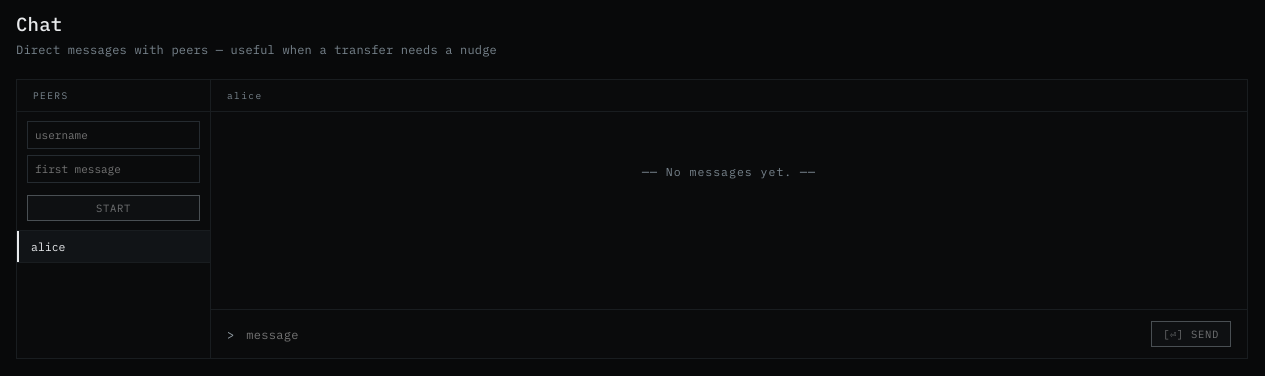
Test: Chat composer › shows a send-failed message on 502 but keeps the composer enabled and the draft intact
Step 1. Type "hello" into the field labelled "message" → (693, 334), box [244,326,1141,342]
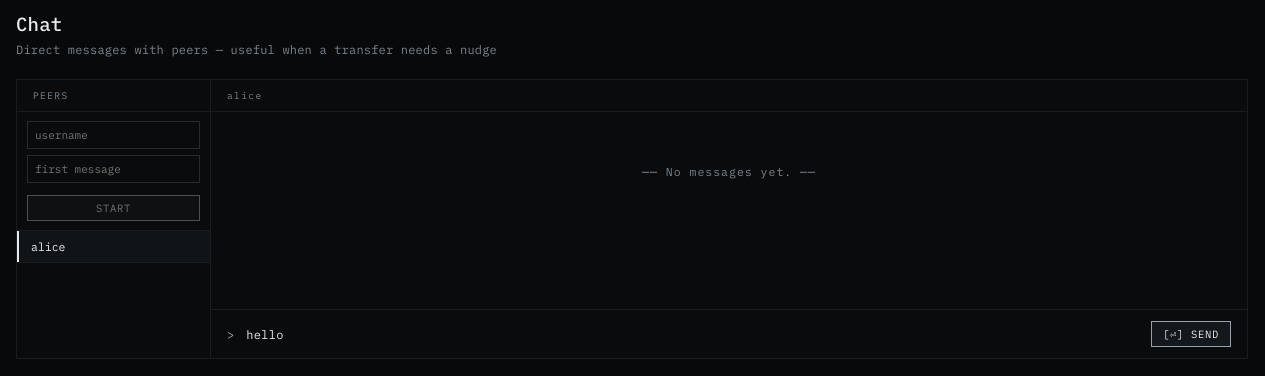
Step 2. Click the button "[⏎] SEND" → click(1191, 334), box [1151,321,1231,347]
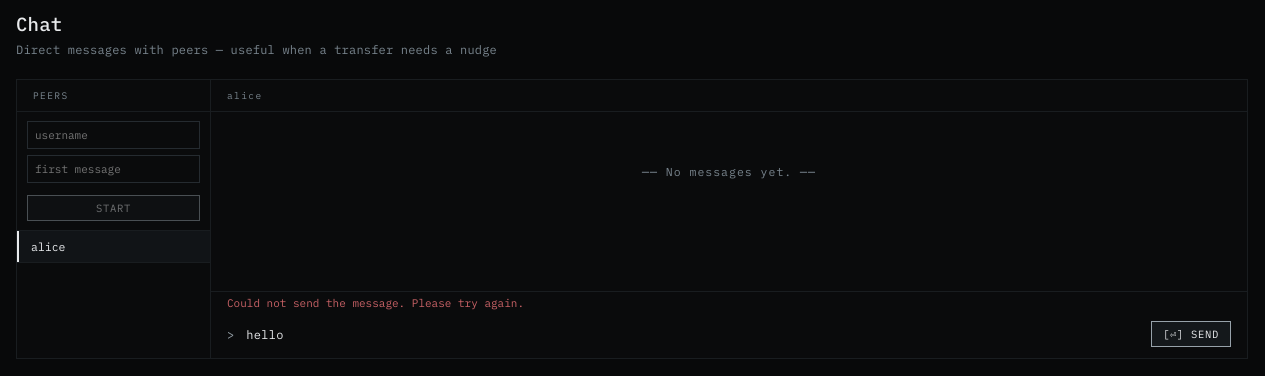
Expected: the field named "message" is enabled, [244,326,1141,342]
Expected: the text "Could not send the message. Please try again." is shown, [227,296,524,310]
